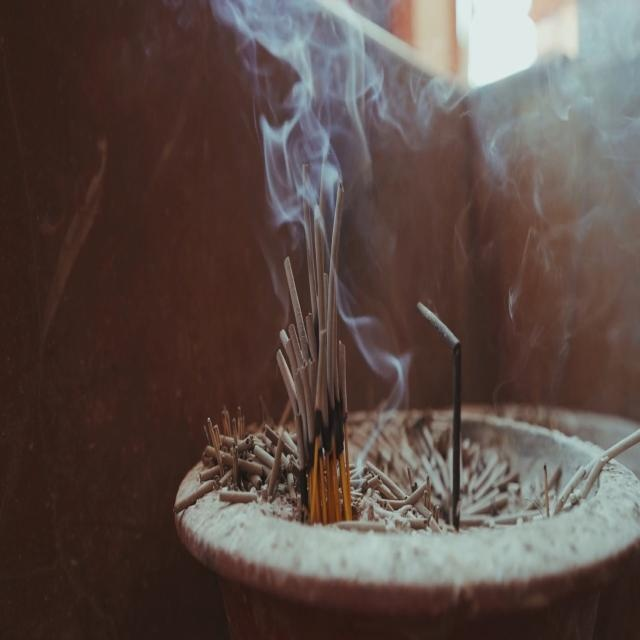smoke: (226, 0, 393, 316)
